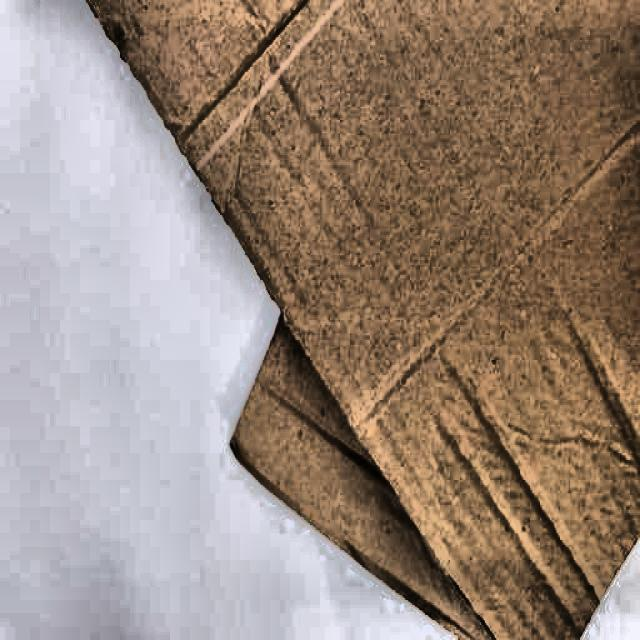cardboard: (69, 0, 639, 638)
